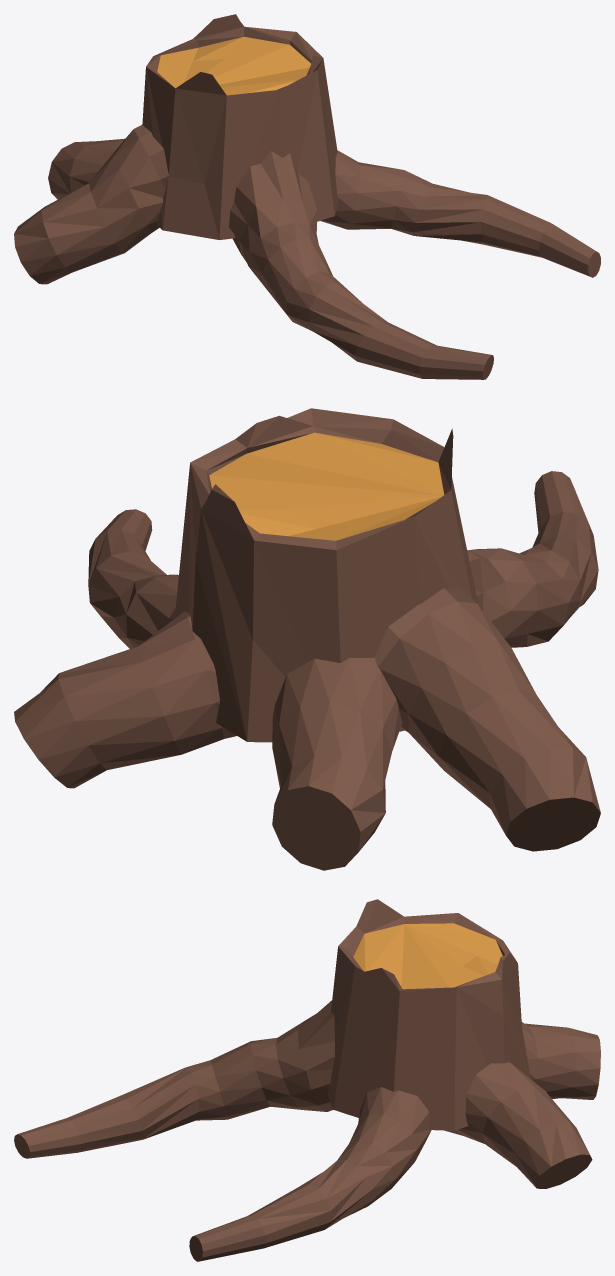
File: trunk.glb
3 views of the same model, one above another, from view 1: azimuth 30°, elevation 25°; view 2: azimuth 150°, elevation 25°; view 3: azimuth 270°, elevation 25° (orthographic). The views are drawn at different scales.
Visible parts, largest first — view 1: Node; view 2: Node; view 3: Node.
Boxes of the visible parts, bbox=[...] form: Node: bbox=[14, 14, 600, 379]; Node: bbox=[14, 408, 600, 870]; Node: bbox=[14, 899, 600, 1261].
Size of the model in its own units: 1.21 by 0.5553 by 1.36.
